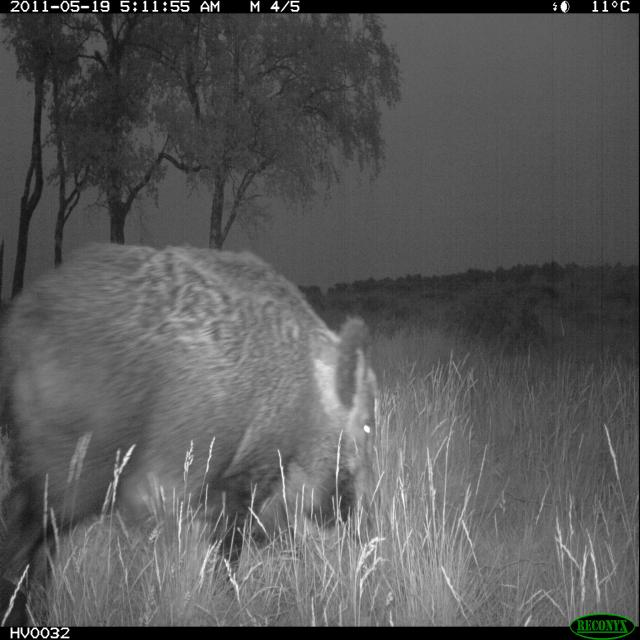boar: (0, 228, 394, 598)
